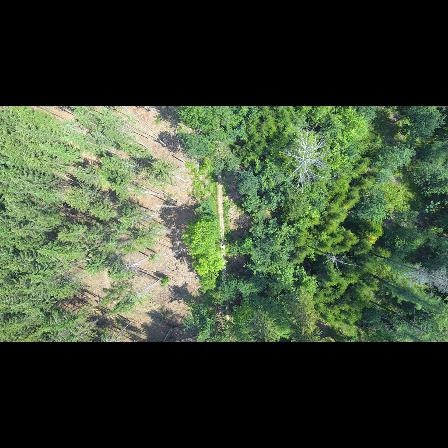Dead: (284, 123, 338, 187), (396, 264, 448, 293), (322, 251, 363, 275)
